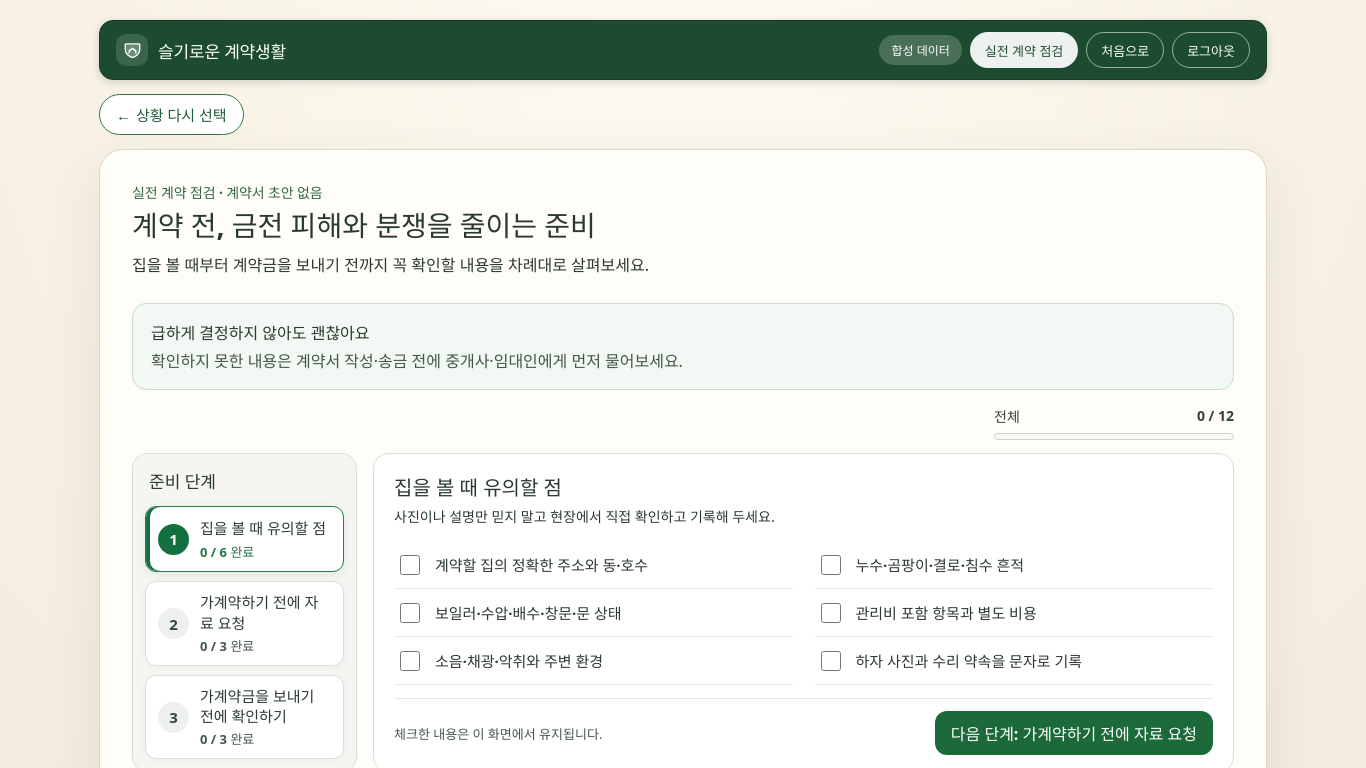
Scenario: ContractPreparationPage › updates the overall and step counts when an item is checked
Click the checkbox labelled "계약할 집의 정확한 주소와 동·호수". click: point(410, 565)
box: [400,555,420,575]
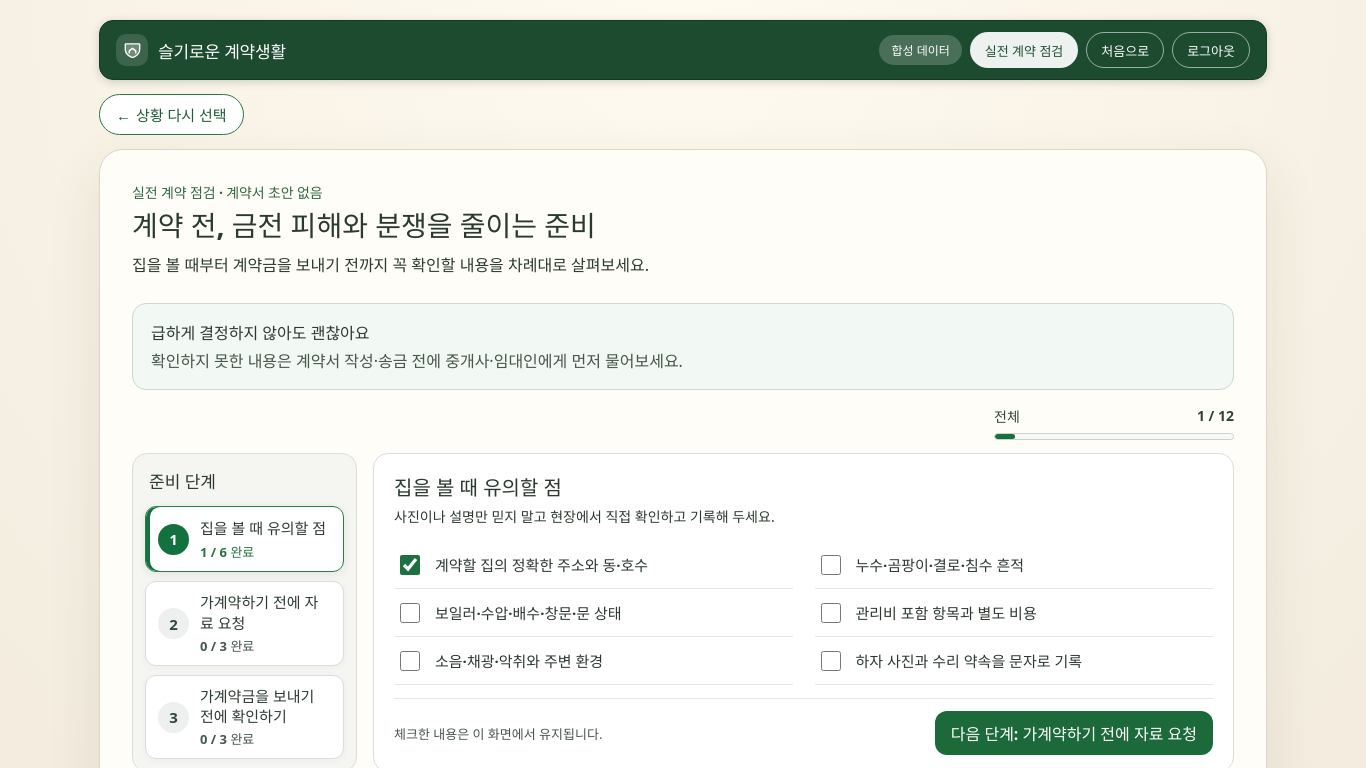
Check: the element labelled "전체 1 / 12" is shown, box [994,406,1234,440]
Check: the button "1 집을 볼 때 유의할 점 1 / 6 완료" is shown, box [145,506,344,572]
